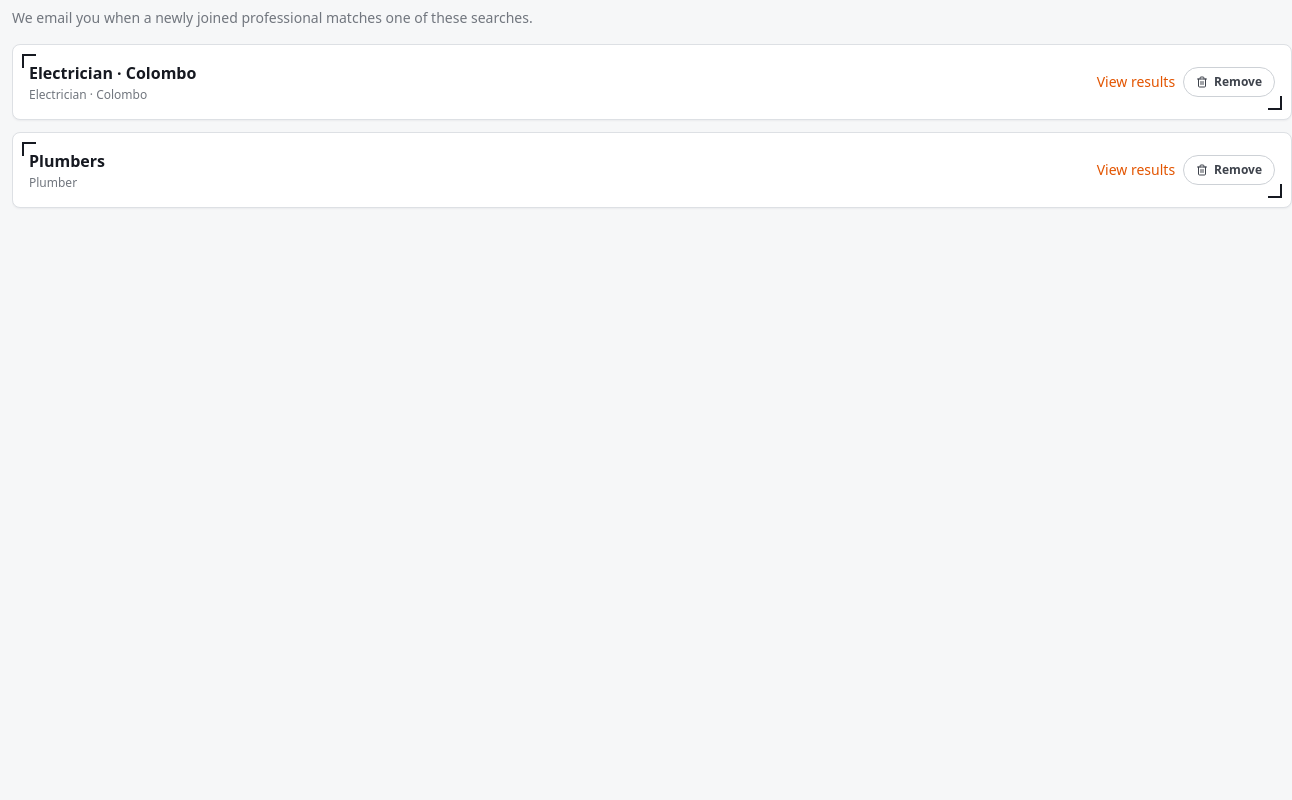
Test: SavedSearches › optimistically removes a search and DELETEs it
Click the button "Remove" in the row of "Plumbers" at (1229, 170), box [1183,155,1275,185]
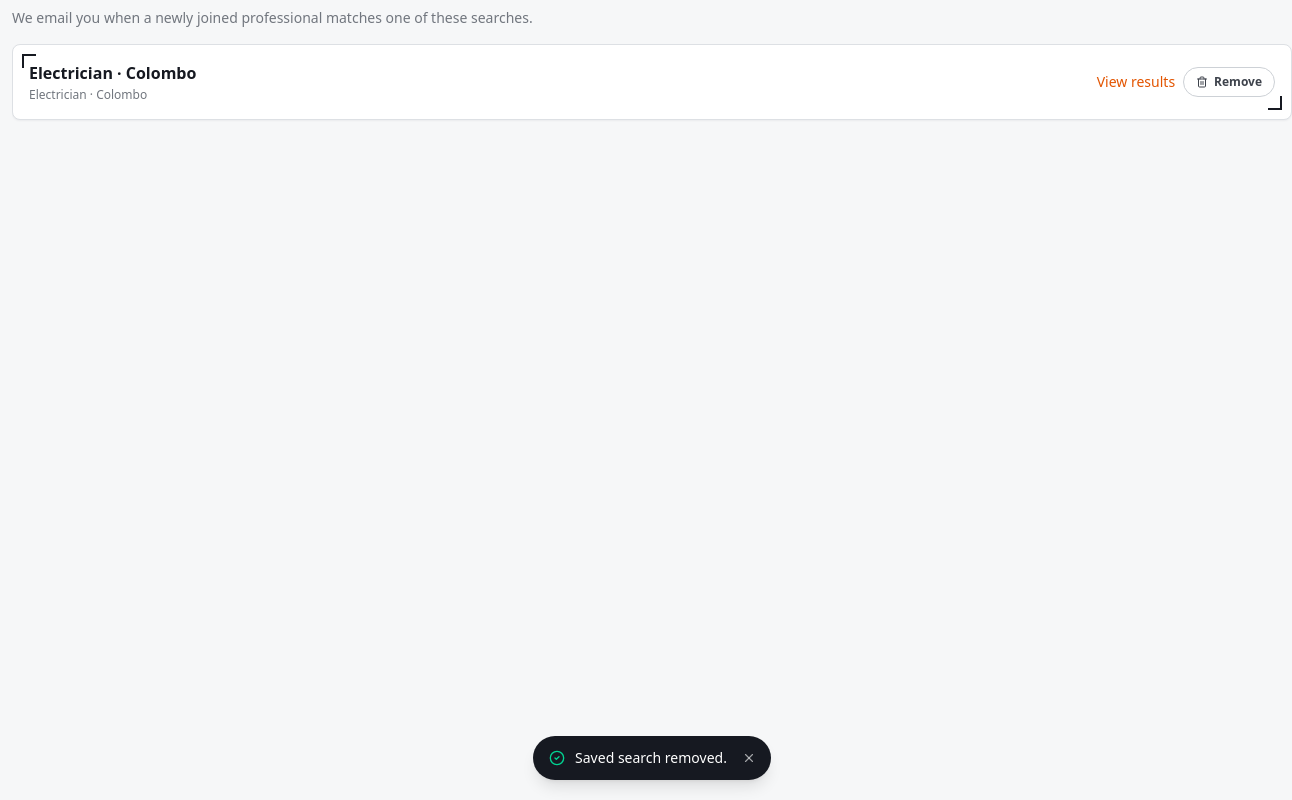
Check: the text "Plumbers" is gone
Check: the message reads "Saved search removed.", box [575,748,727,767]
